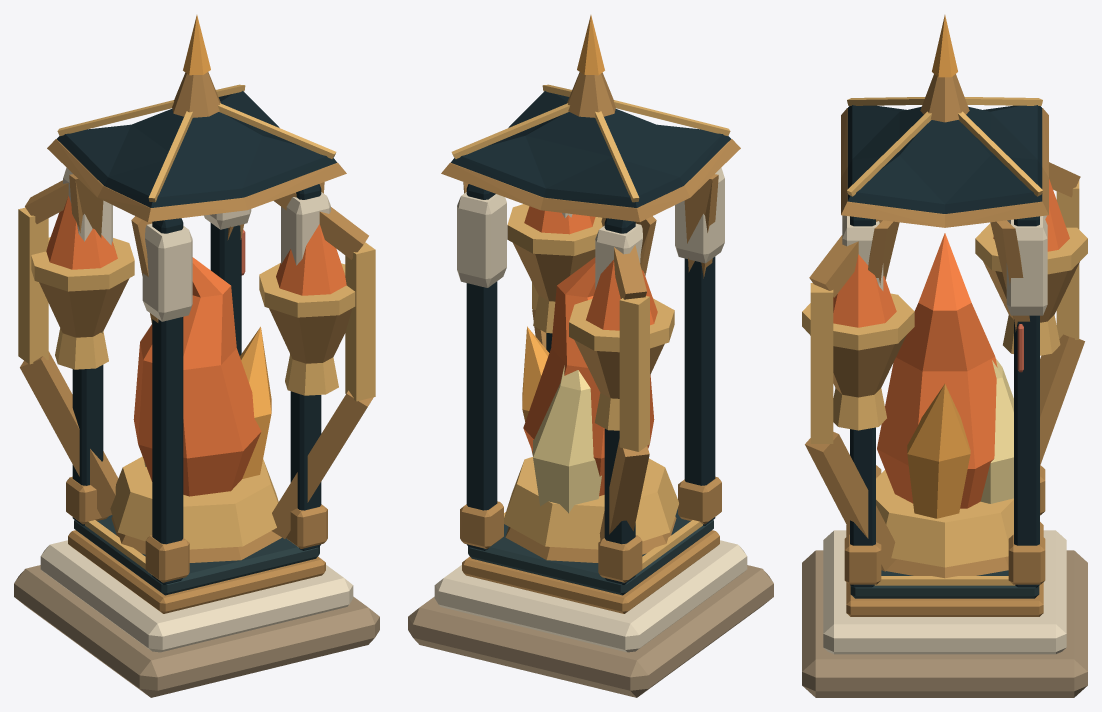
File: Tower_FlameLanternL2.fbx
3 views of the same model, side by side, from view 1: azimuth 30°, elevation 25°; view 2: azimuth 150°, elevation 25°; view 3: azimuth 270°, elevation 25° (orthographic). The views are drawn at different scales.
Visible parts, largest first — view 1: Tower_FlameLanternL2; view 2: Tower_FlameLanternL2; view 3: Tower_FlameLanternL2.
Part boxes in pixels (<box>): Tower_FlameLanternL2: <box>14,15,379,697</box>; Tower_FlameLanternL2: <box>408,15,773,697</box>; Tower_FlameLanternL2: <box>802,15,1087,697</box>.
Size of the model in its own units: 0.94 by 2.29 by 0.94.
